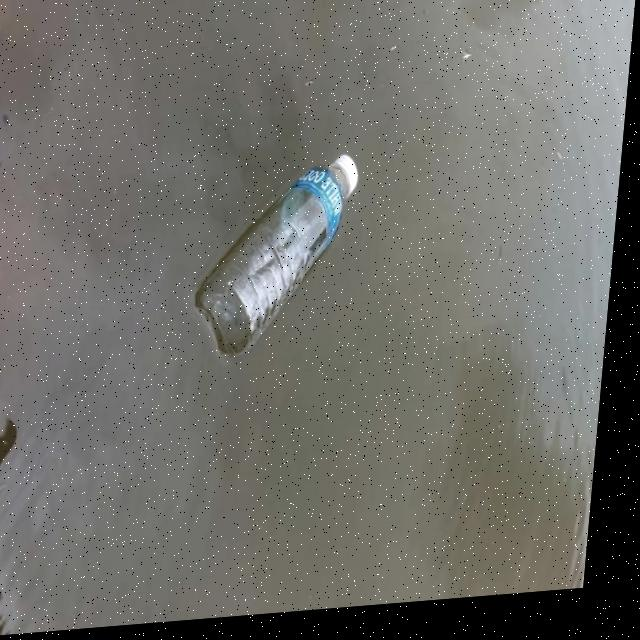waterbottle: (187, 139, 392, 397)
